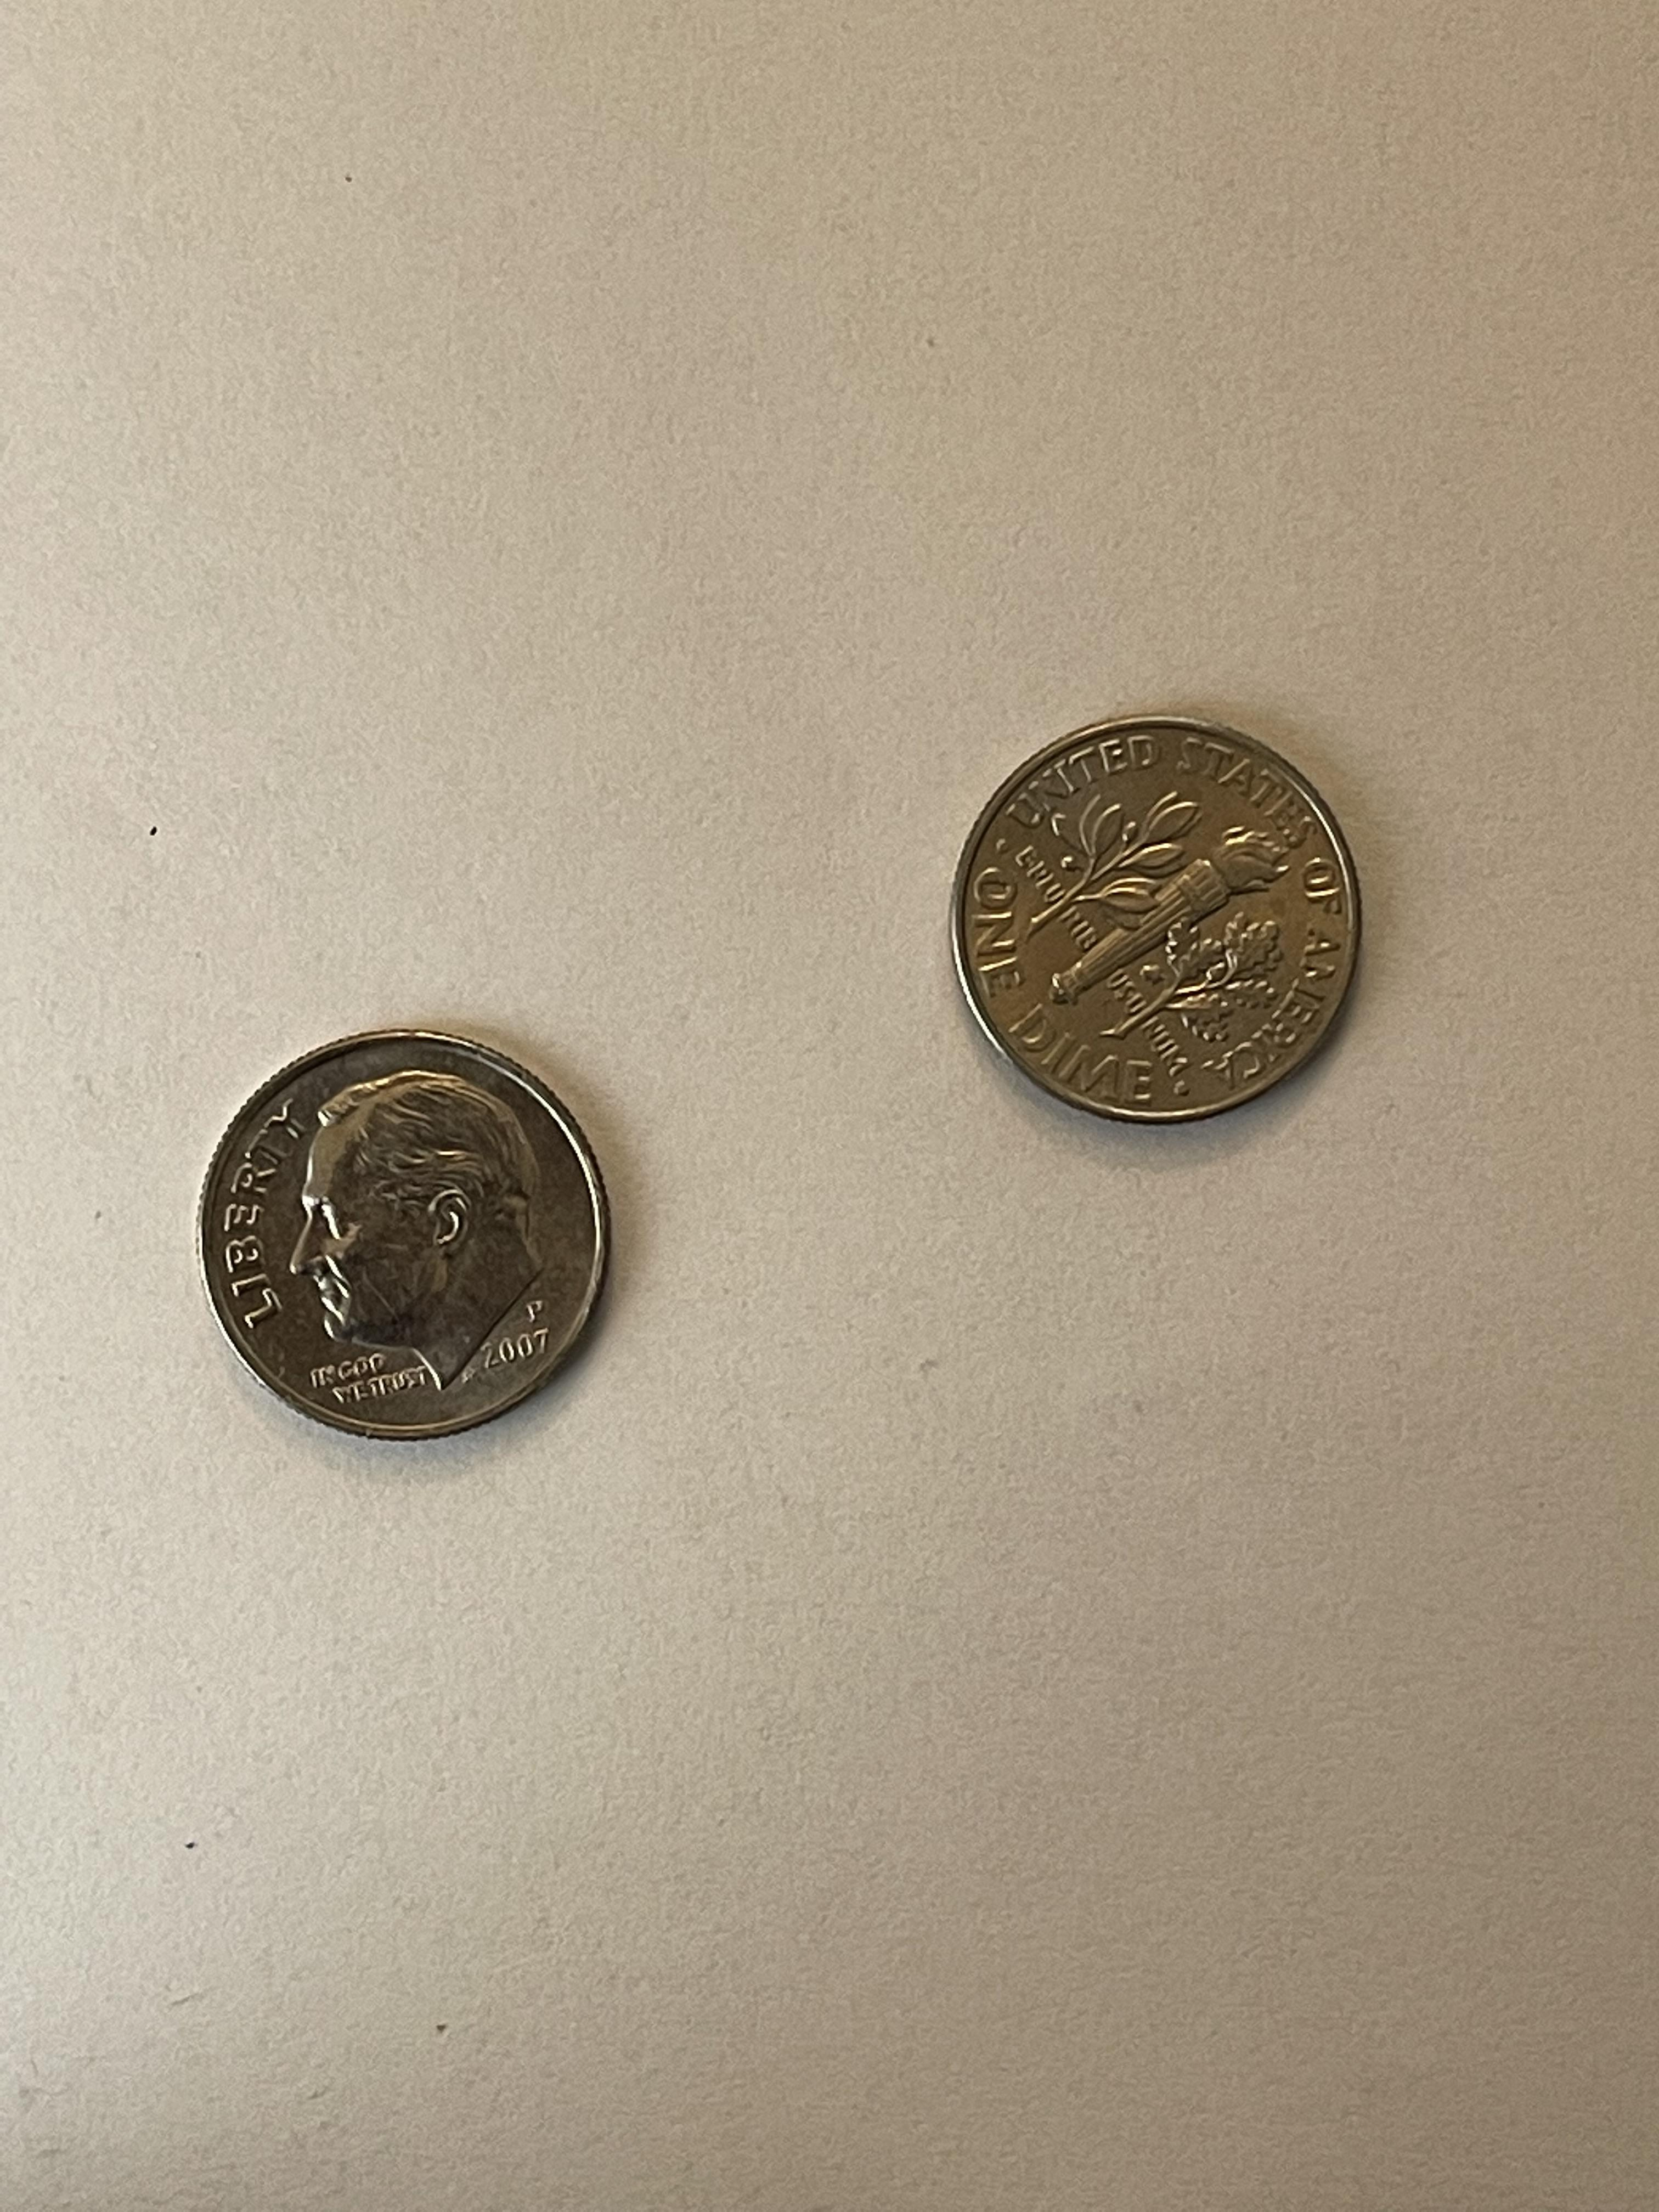Dime: (193, 1029, 612, 1444), (946, 712, 1363, 1125)
